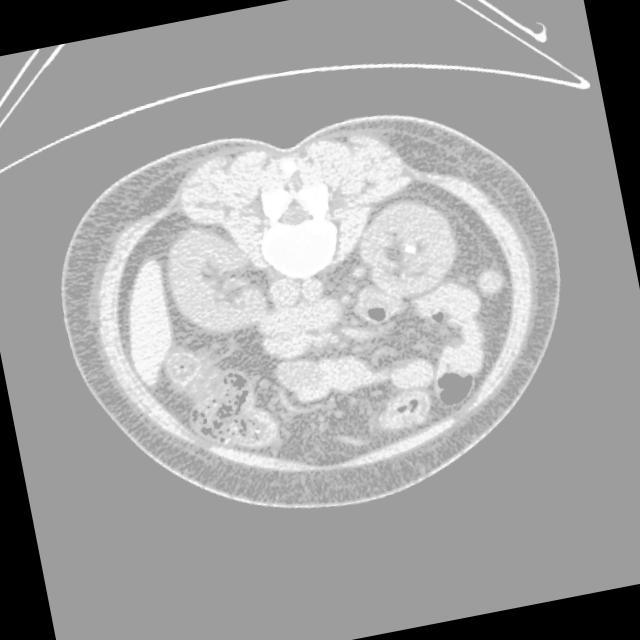STONE: (121, 254, 474, 474)
